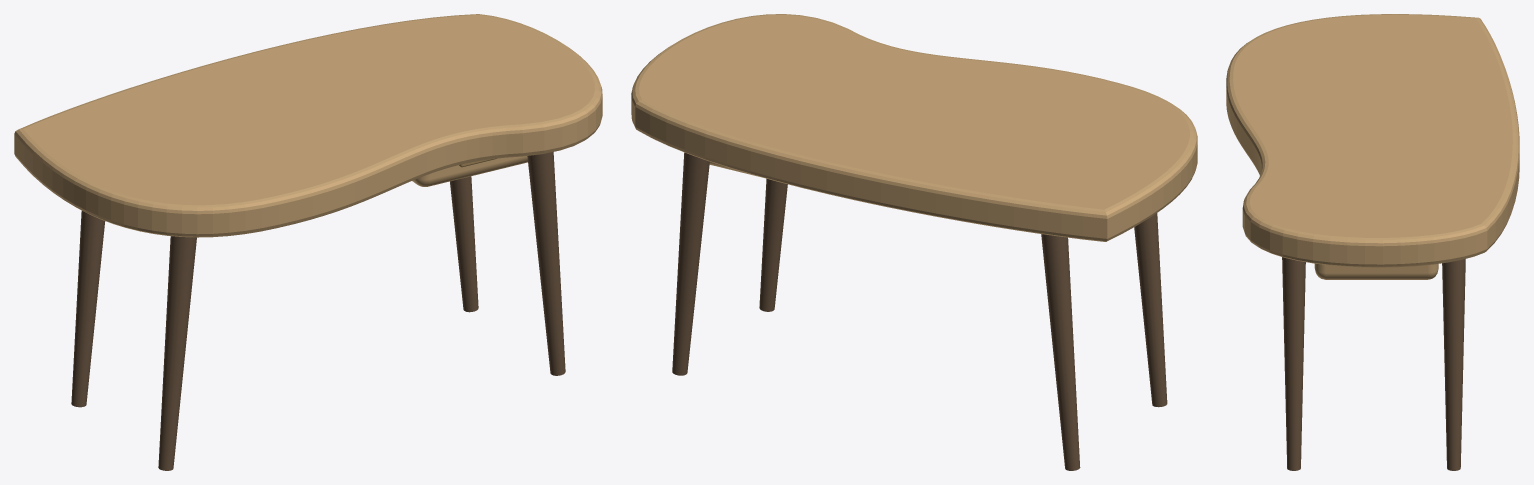
Rendered from desk.glb.
3 renders of one model, left to right at view 1: azimuth 30°, elevation 25°; view 2: azimuth 150°, elevation 25°; view 3: azimuth 270°, elevation 25°, orthographic. The views are drawn at different scales.
Visible parts, largest first — view 1: atelier-warm-desk; view 2: atelier-warm-desk; view 3: atelier-warm-desk.
Part boxes in pixels (left/top/right/bottom): atelier-warm-desk: left=14, top=14, right=602, bottom=470; atelier-warm-desk: left=631, top=14, right=1197, bottom=470; atelier-warm-desk: left=1226, top=14, right=1519, bottom=470.
Size of the model in its own units: 1.92 by 0.9983 by 1.04.
